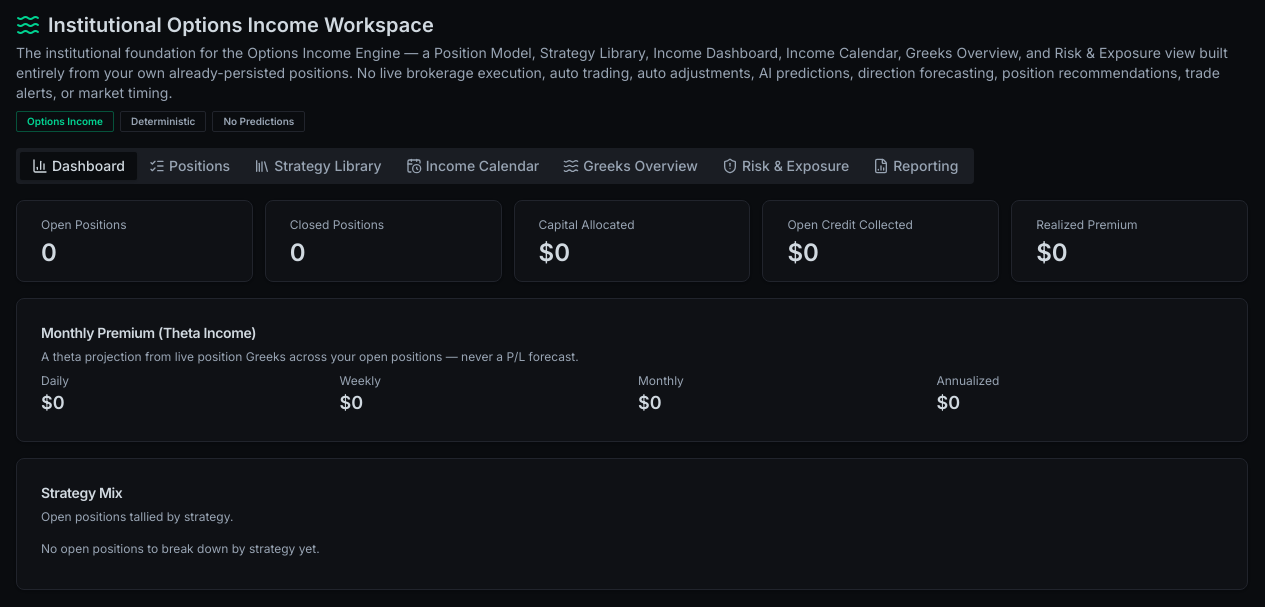
Test: OptionsIncomeWorkspace › renders a closed position's honest lifecycle and realized P&L
What coordinates should you click on to do the following:
click the tab with test id "tab-oiw-positions"
I would click on:
 (190, 166)
Its box is [137,152,242,180].
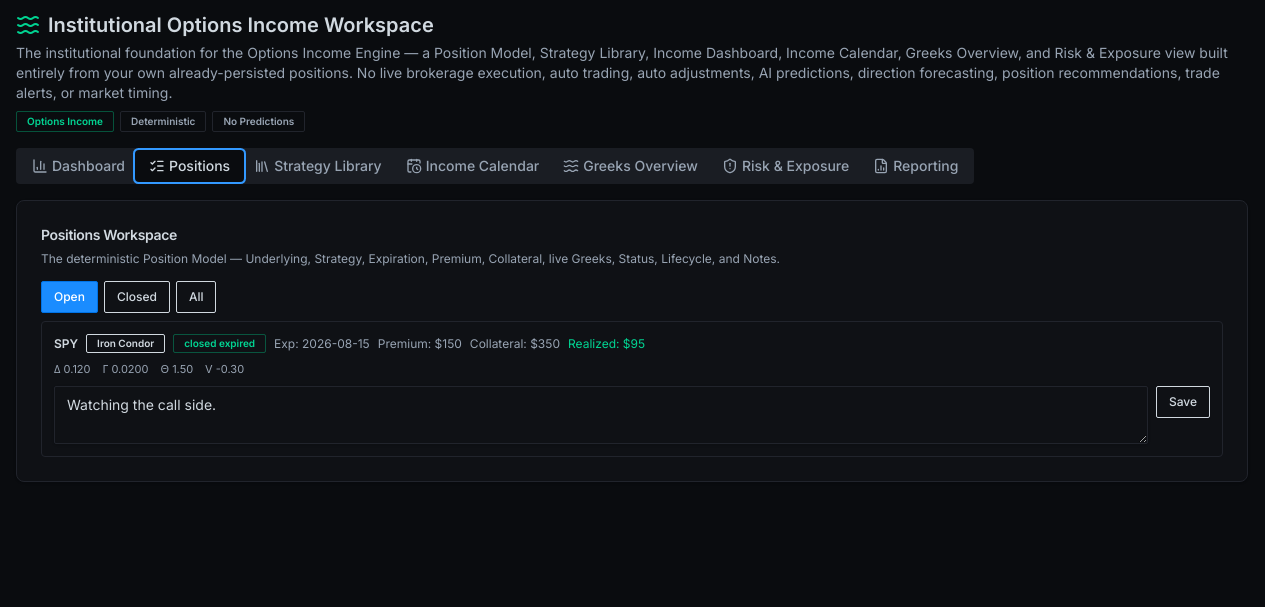
Result: the text with test id "position-lifecycle-2" reads "closed expired" at [184,337,255,349]
Result: the element with test id "position-2" shows "Realized: $95" at [41,321,1223,457]
